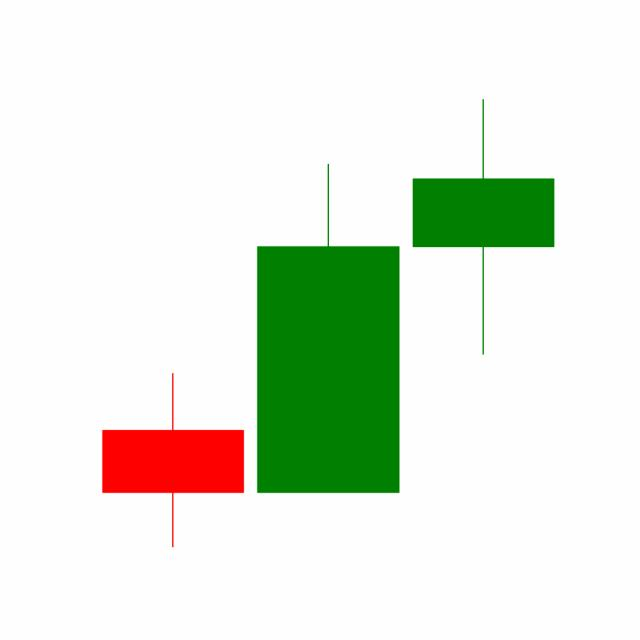Spinning Top: (405, 95, 561, 357)
